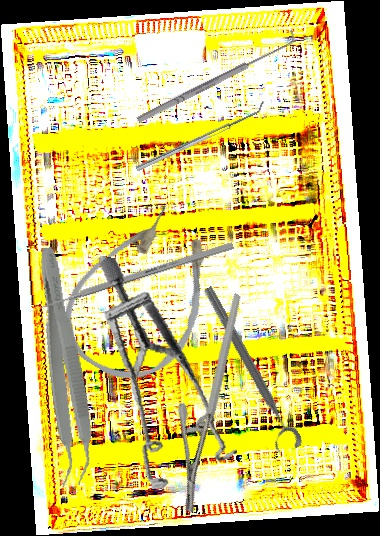Cannula: (43, 187, 244, 402)
Fixation Ring: (190, 283, 305, 458)
Hook Surgical: (131, 28, 301, 127)
Needle Holder: (124, 292, 304, 515)
Pusher: (28, 241, 234, 315)
Spatula Surgical: (132, 100, 269, 172)
Speculum: (56, 254, 269, 504)
Tissue Forceps: (22, 245, 101, 488)
